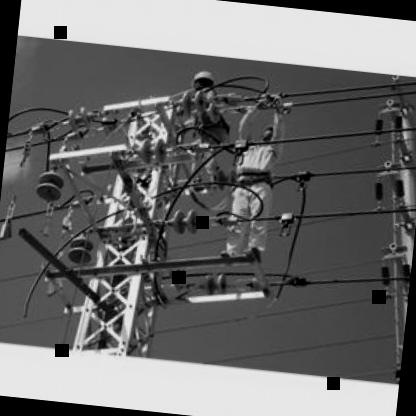helmet: (188, 66, 219, 98)
